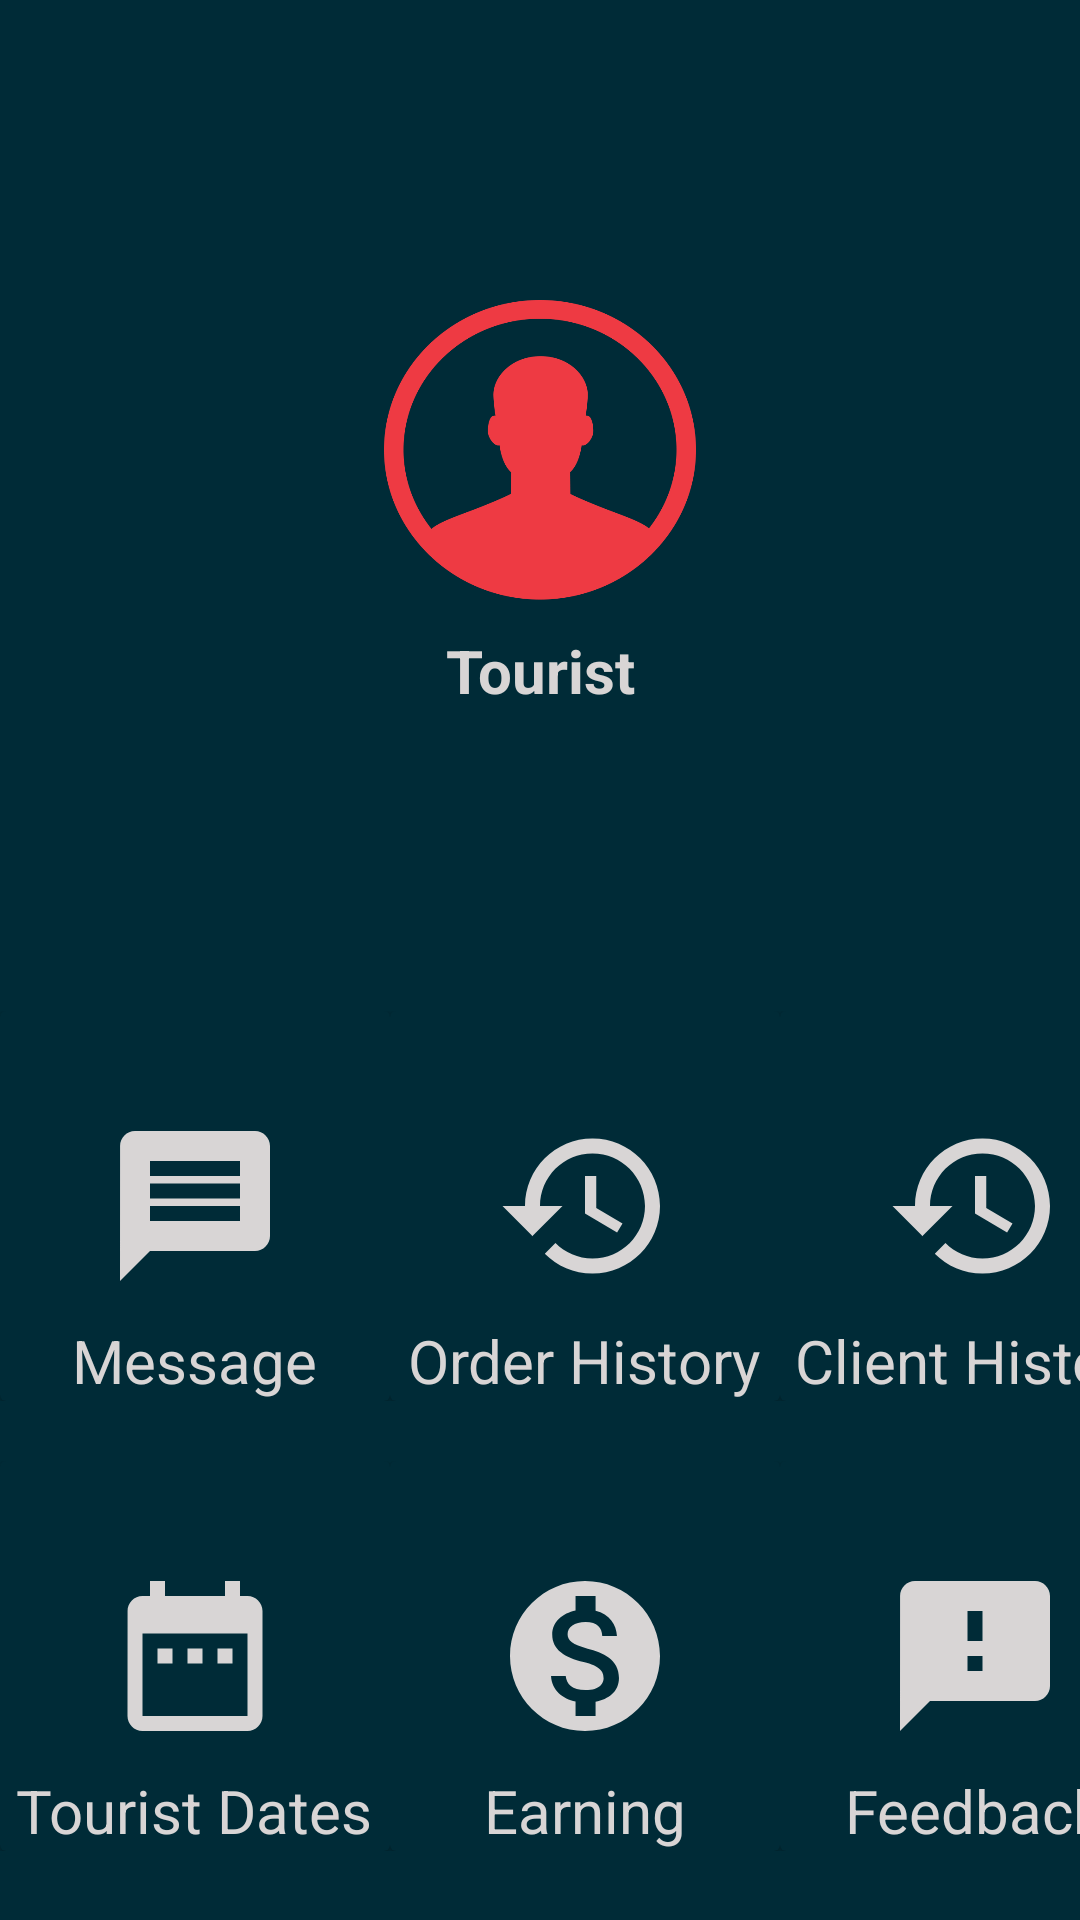

Screen size 1080px×1920px. Icon name, then its box in pixels as (x1, y1, x2, y2):
date range: (127, 1581, 263, 1731)
monetization on: (510, 1581, 660, 1731)
